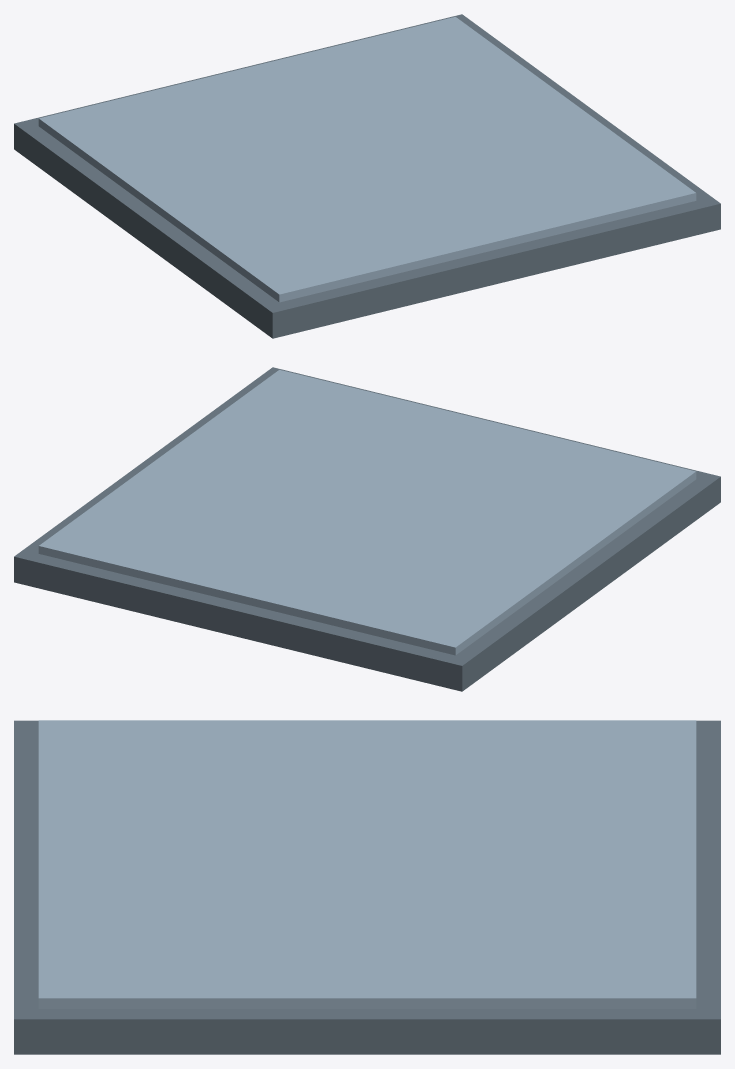
File: k_frost_floor_b.glb
The picture shows the model from 3 angles, top to bottom: view 1: azimuth 30°, elevation 25°; view 2: azimuth 150°, elevation 25°; view 3: azimuth 270°, elevation 25°; orthographic projection. The views are drawn at different scales.
Visible parts, largest first — view 1: piece; view 2: piece; view 3: piece.
Part boxes in pixels (x1=…): piece: x1=14, y1=14, x2=720, y2=338; piece: x1=14, y1=367, x2=720, y2=691; piece: x1=14, y1=720, x2=720, y2=1054.
Bounding box in the file's own units: 1 × 0.0719 × 1.
